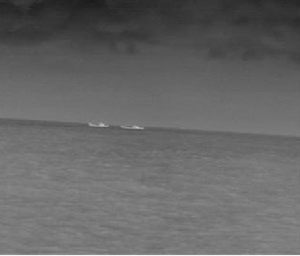Target: (90, 123, 145, 129)
